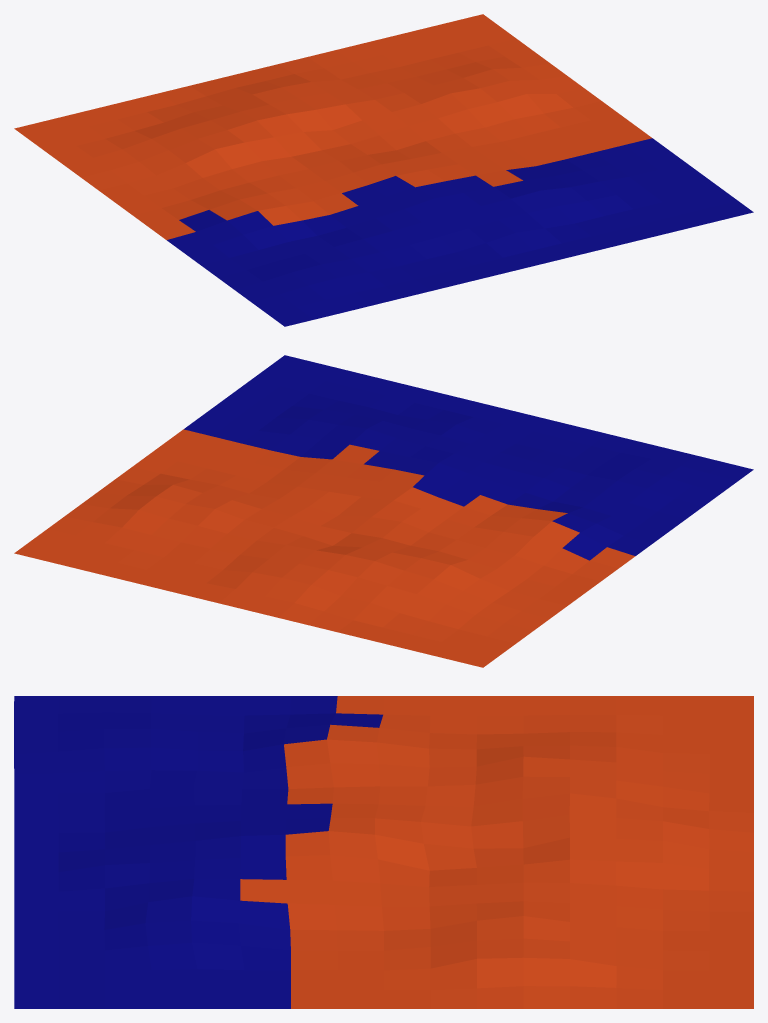
File: Water-Sand3.FBX
The picture shows the model from 3 angles, top to bottom: view 1: azimuth 30°, elevation 25°; view 2: azimuth 150°, elevation 25°; view 3: azimuth 270°, elevation 25°; orthographic projection. The views are drawn at different scales.
Visible parts, largest first — view 1: Terrain.002; view 2: Terrain.002; view 3: Terrain.002.
Boxes of the visible parts, <box> form: Terrain.002: <box>14,14,753,326</box>; Terrain.002: <box>14,355,753,667</box>; Terrain.002: <box>14,696,753,1008</box>.
Bounding box in the file's own units: 800 × 800 × 23.83.
